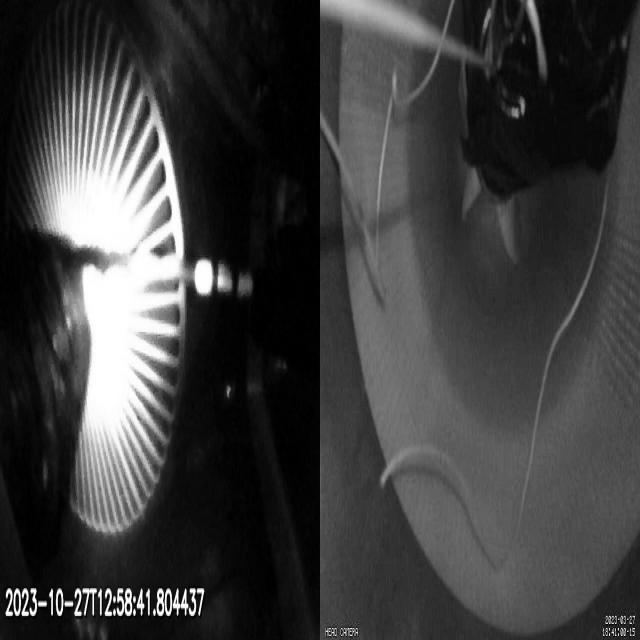white-dots: (193, 257, 254, 298)
